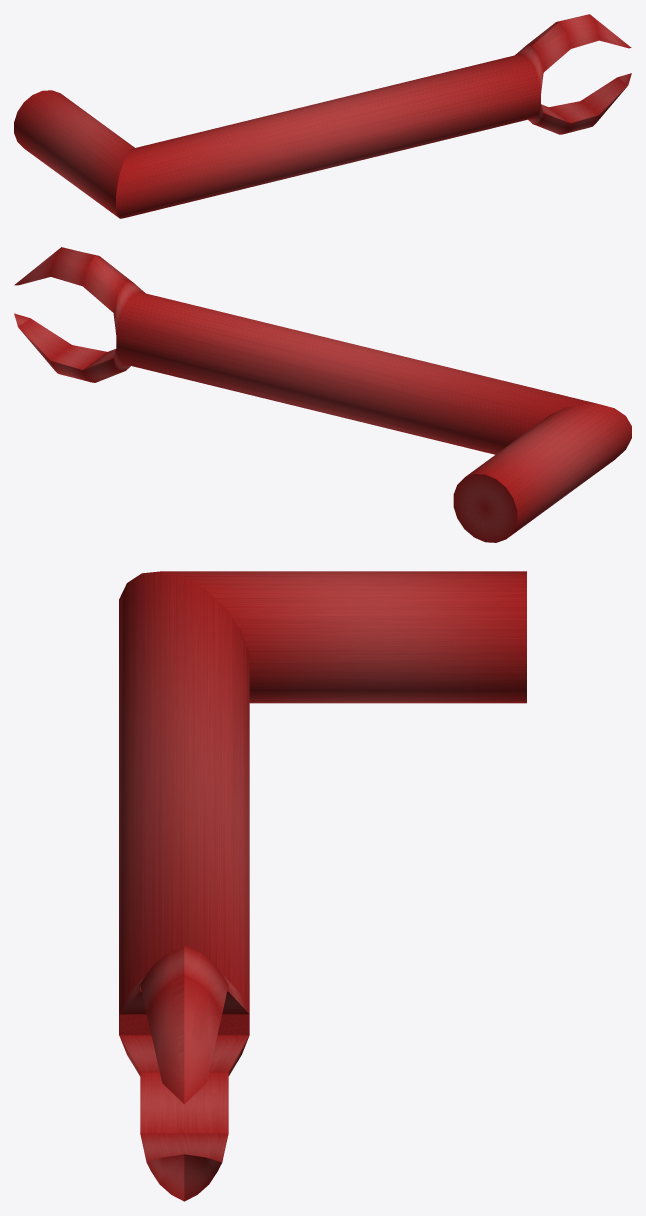
Rendered from klauw.obj.
3 views of the same model, one above another, from view 1: azimuth 30°, elevation 25°; view 2: azimuth 150°, elevation 25°; view 3: azimuth 270°, elevation 25° (orthographic). The views are drawn at different scales.
Parts seen in each view (by area): view 1: klauw; view 2: klauw; view 3: klauw.
Part boxes in pixels (box(x1,y1,x2,y2)): klauw: box(14, 14, 631, 218); klauw: box(14, 247, 631, 542); klauw: box(119, 571, 526, 1201).
Bounding box in the file's own units: 1.85 × 0.3776 × 0.6149.
Materials: 1 (1 with a texture image).
